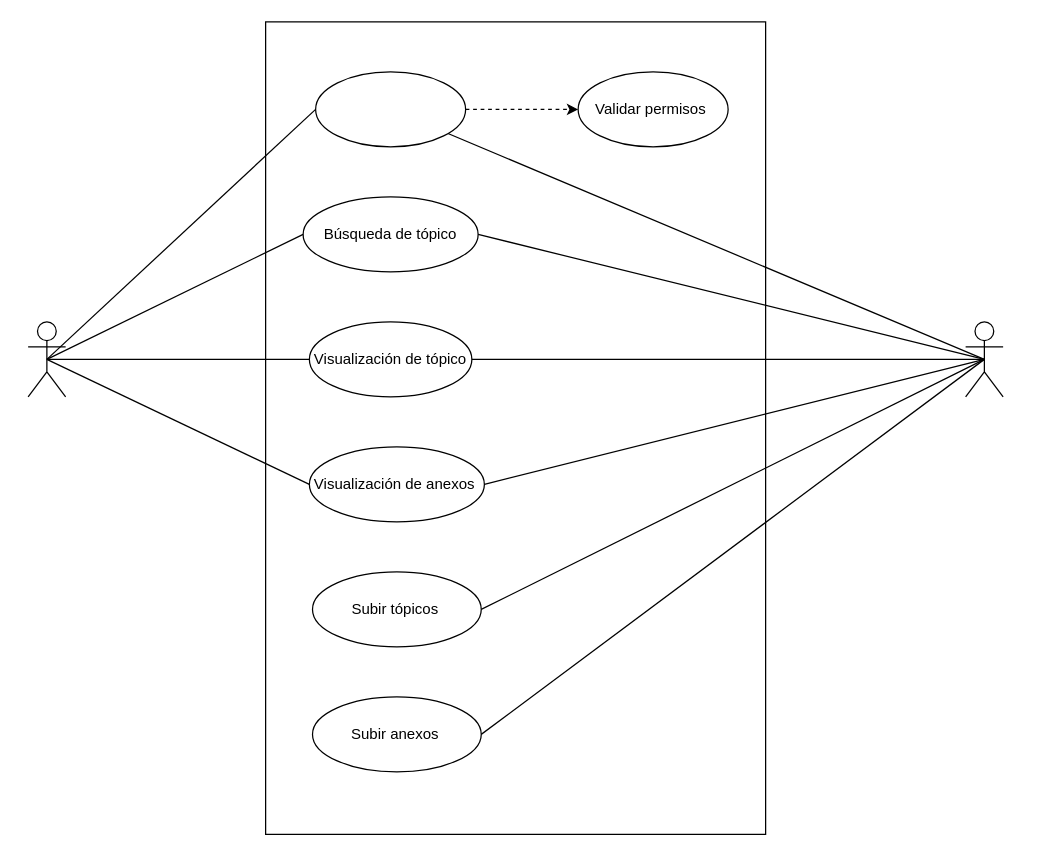
Some shapes in this 1053 by 856 pixel diagram are drawn without their labels. Each missing label, with the centre of its shape:
"Administrador" belongs at point 983,359.
"Inicio de sesión" belongs at point 390,109.
"Usuario" belongs at point 46,359.
